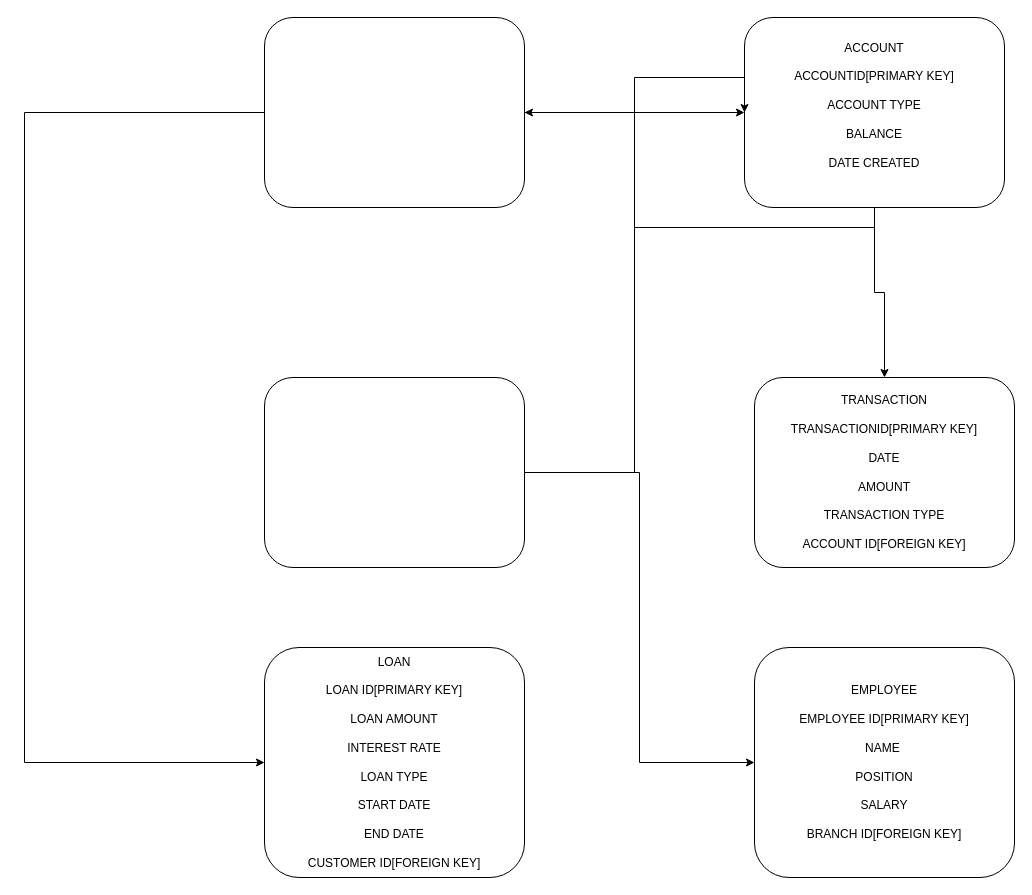
This 1032x895 diagram has some shape labels left out. The shapes that lost their labels are listed below. From the top down, each one's centre as x and y in pixels, then its label:
the point at 394,112: CUSTOMER CUSTOMERID NAME ADDRESS PHONE EMAIL D.O.B
the point at 394,472: BRANCH BRANCHID[PRIMARY KEY] BRANCH NAME BRANCH LOCATION
